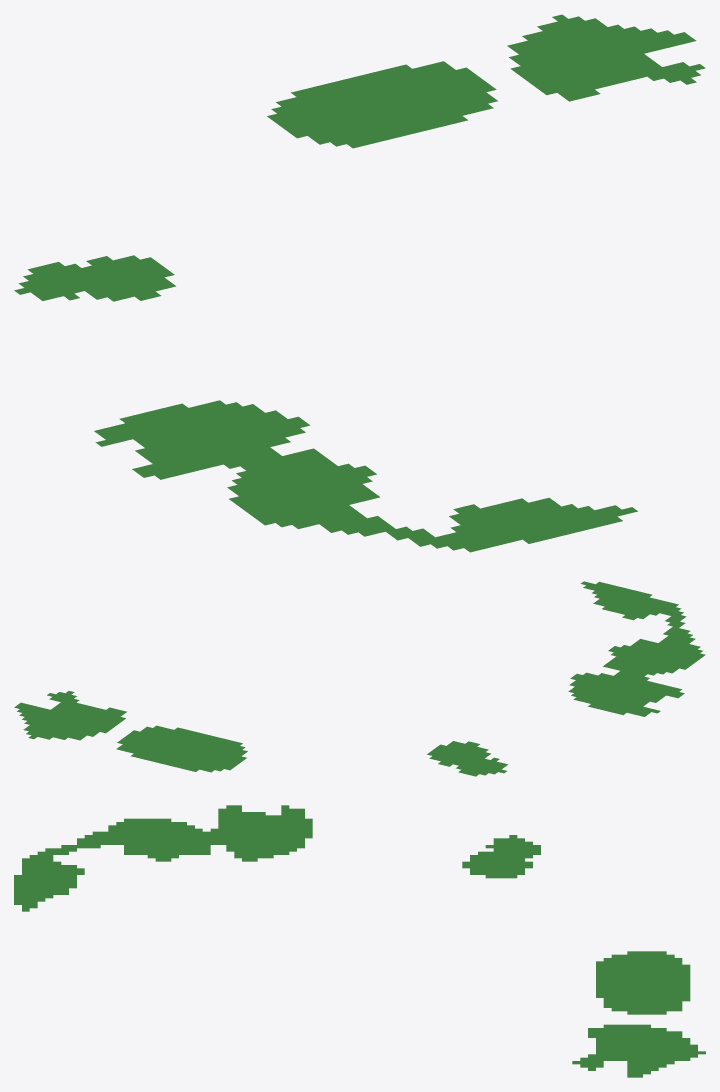
File: Isl-atoll4-TreesArea.fbx
3 renders of one model, top to bottom at view 1: azimuth 30°, elevation 25°; view 2: azimuth 150°, elevation 25°; view 3: azimuth 270°, elevation 25°, orthographic. The views are drawn at different scales.
Parts seen in each view (by area): view 1: Isl-atoll4-TreesArea; view 2: Isl-atoll4-TreesArea; view 3: Isl-atoll4-TreesArea.
Boxes of the visible parts, x1=… form: Isl-atoll4-TreesArea: x1=14, y1=14, x2=705, y2=552; Isl-atoll4-TreesArea: x1=14, y1=581, x2=705, y2=776; Isl-atoll4-TreesArea: x1=14, y1=805, x2=705, y2=1077.
Bounding box in the file's own units: 82 × 0 × 88.
